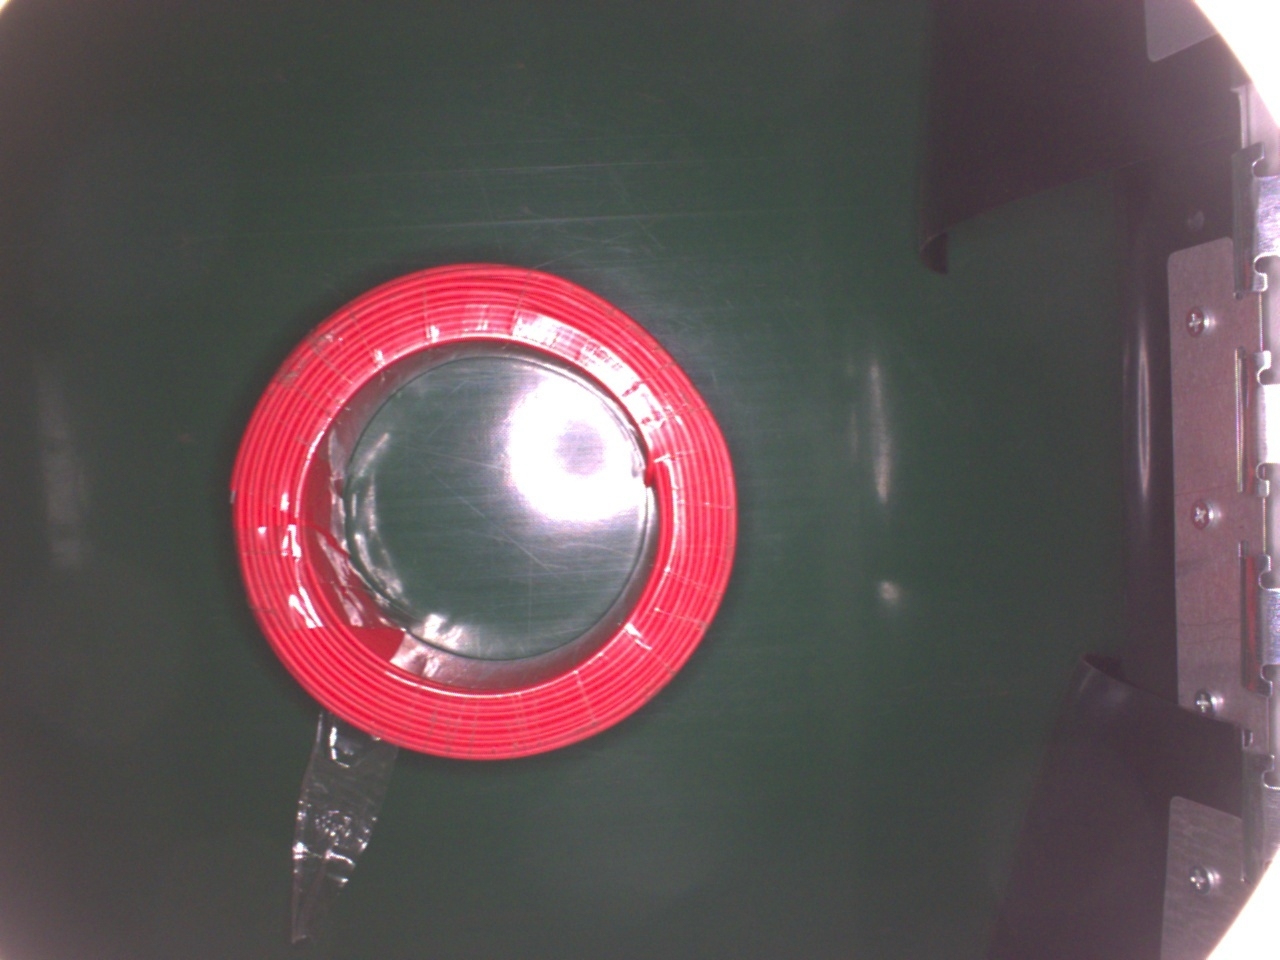red: (228, 258, 738, 758)
